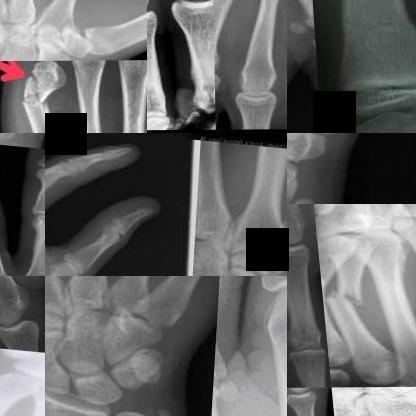fracture: (20, 61, 67, 126), (336, 10, 415, 48), (323, 281, 366, 318), (189, 85, 215, 129), (145, 399, 187, 415), (318, 264, 330, 300)
